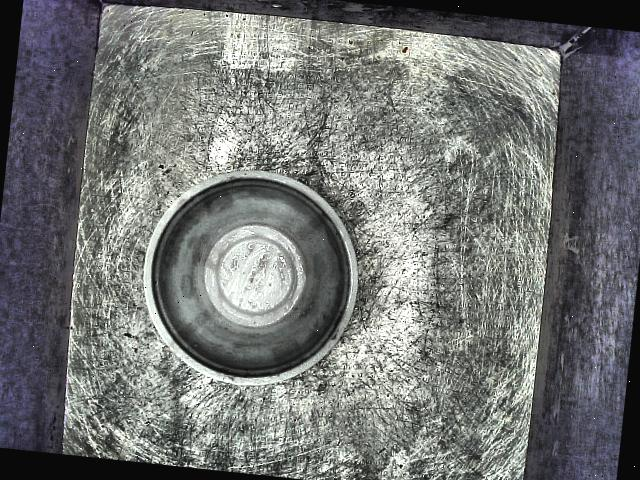Plastic: (130, 143, 366, 406)
